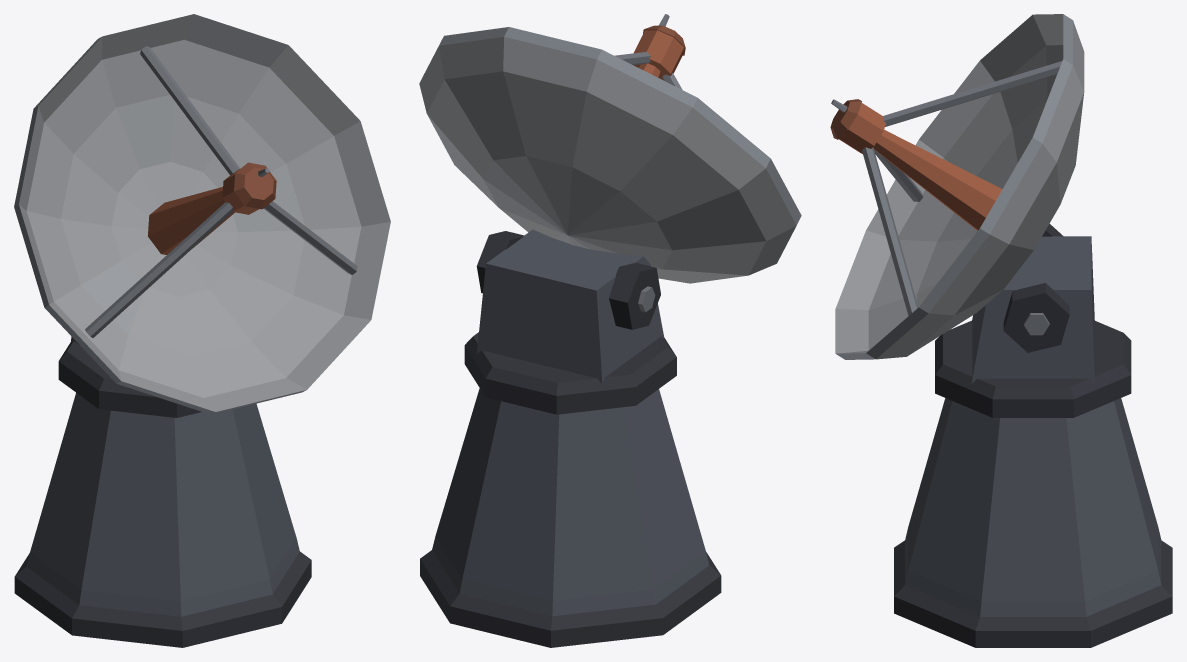
The model's file is comms-dish-7b129a.glb.
3 renders of one model, left to right at view 1: azimuth 30°, elevation 25°; view 2: azimuth 150°, elevation 25°; view 3: azimuth 270°, elevation 25°, orthographic.
Parts seen in each view (by area): view 1: dish, pedestal; view 2: pedestal, dish, yoke; view 3: pedestal, dish, yoke.
Boxes of the visible parts, box(x1,y1,x2,y2) form: dish: box(14, 14, 390, 414); pedestal: box(14, 341, 311, 647); pedestal: box(420, 332, 721, 647); dish: box(419, 14, 801, 283); yoke: box(476, 229, 664, 384); pedestal: box(894, 320, 1172, 647); dish: box(830, 14, 1084, 359); yoke: box(971, 223, 1094, 383).
Size of the model in its own units: 2.32 by 3.56 by 2.
